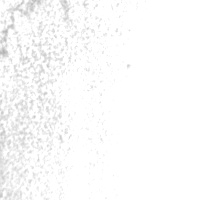pitted_surface: (1, 1, 143, 199)
